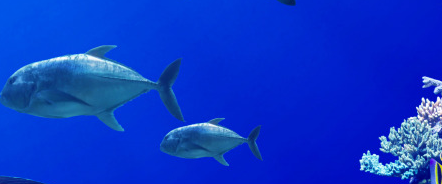fishLarge: (11, 43, 183, 131), (158, 117, 264, 167)
